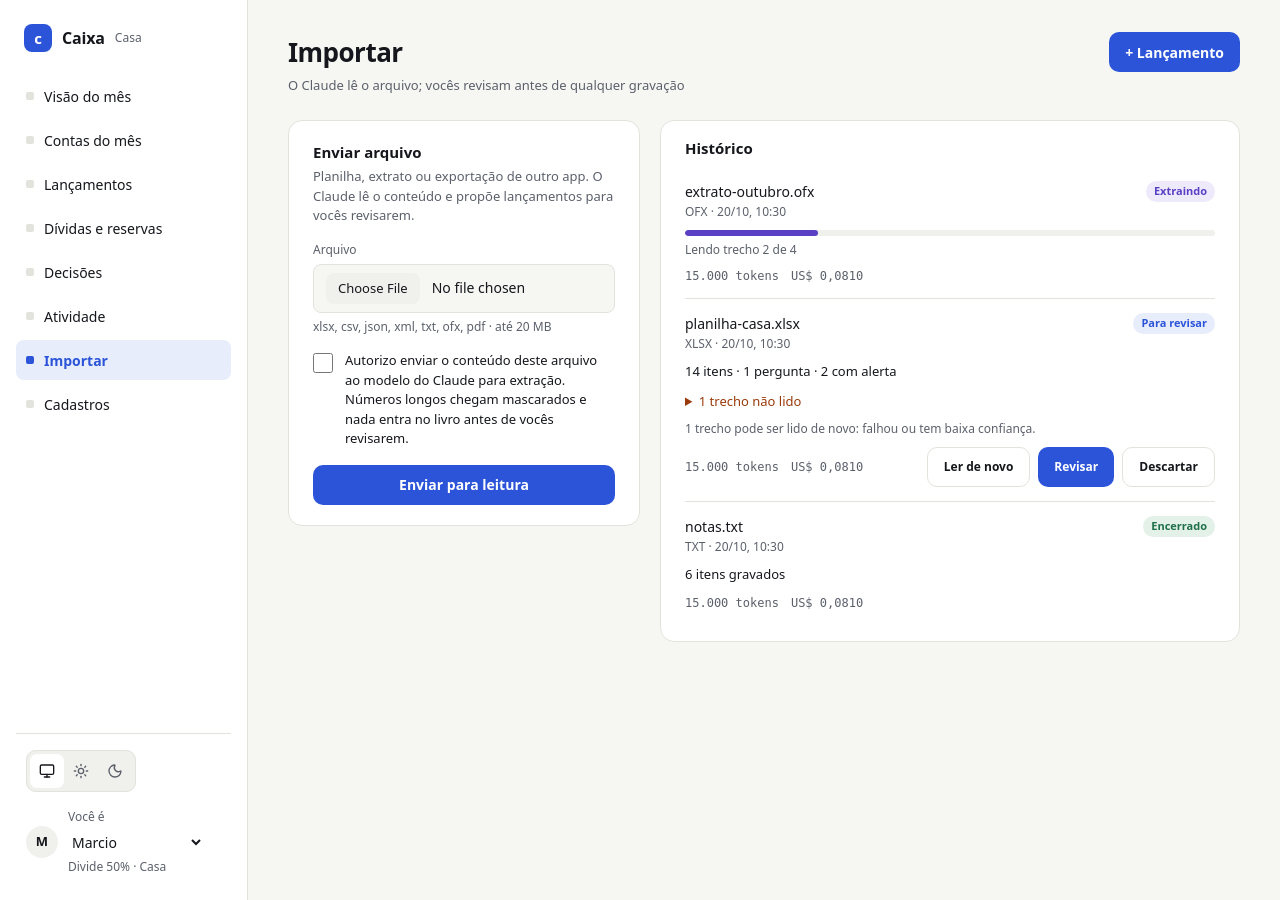
Test: reads the failed chunks of a batch again from the history
Check: the text "1 trecho pode ser lido de novo: falhou ou tem baixa confiança." is shown, box [685,420,1036,437]
Click the button with aria-label "Ler de novo planilha-casa.xlsx" at (979, 467), box [927,447,1030,487]
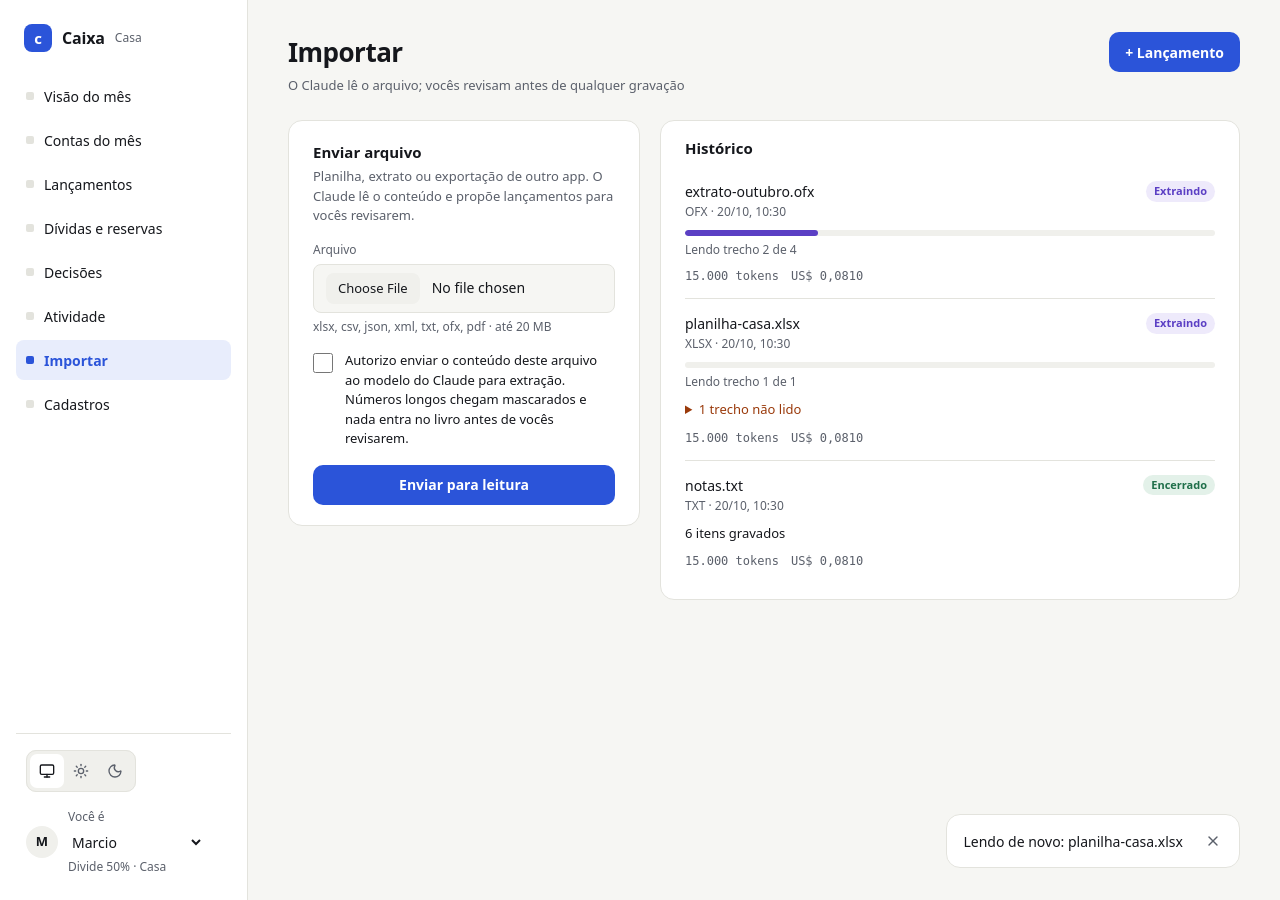
Check: the text "Lendo de novo: planilha-casa.xlsx" is shown, box [963,830,1183,852]
Check: the 2nd text "Extraindo" is shown, box [1146,313,1215,334]
